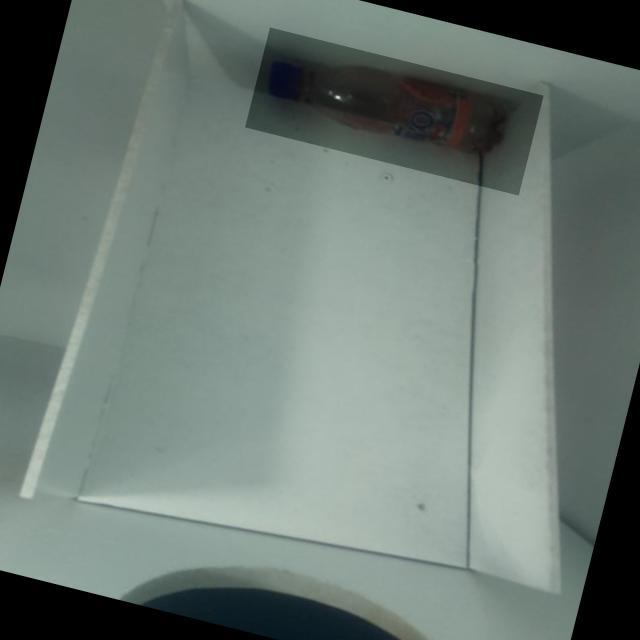good: (243, 27, 542, 195)
